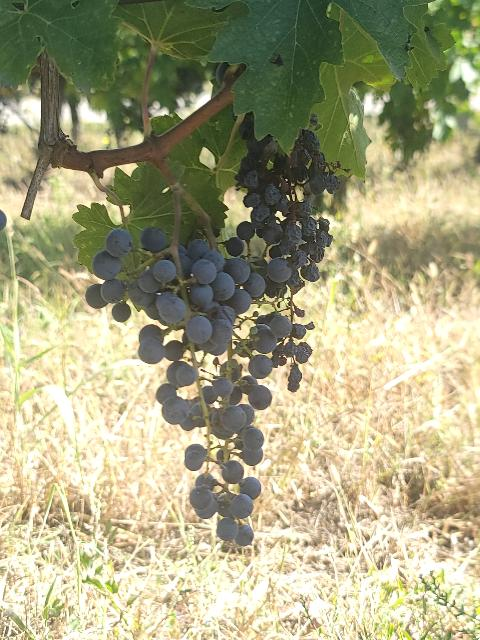grapes: (85, 229, 294, 546), (236, 130, 339, 288)
